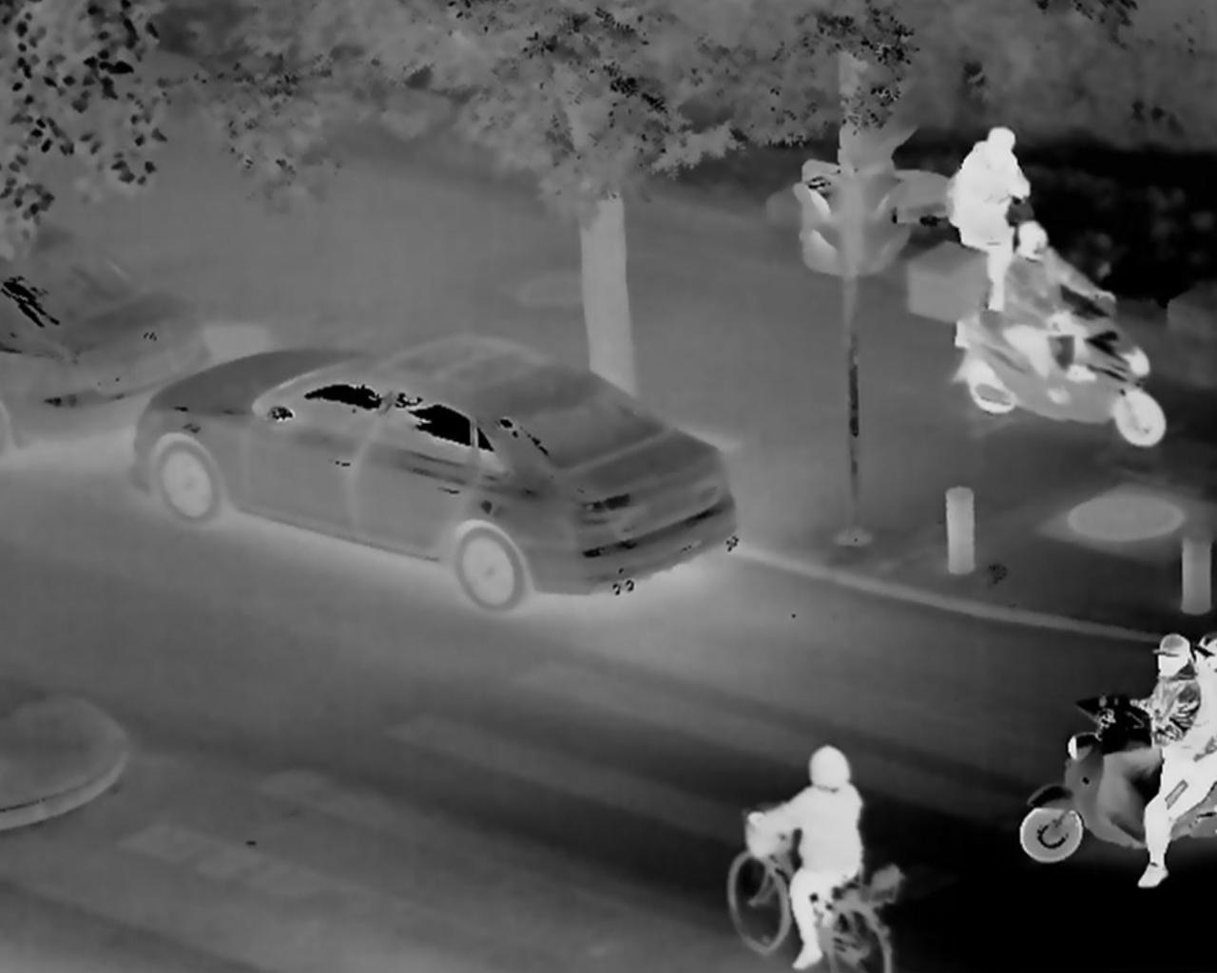person: (742, 743, 877, 973), (1108, 636, 1217, 900), (1007, 225, 1139, 423), (947, 122, 1038, 278)
